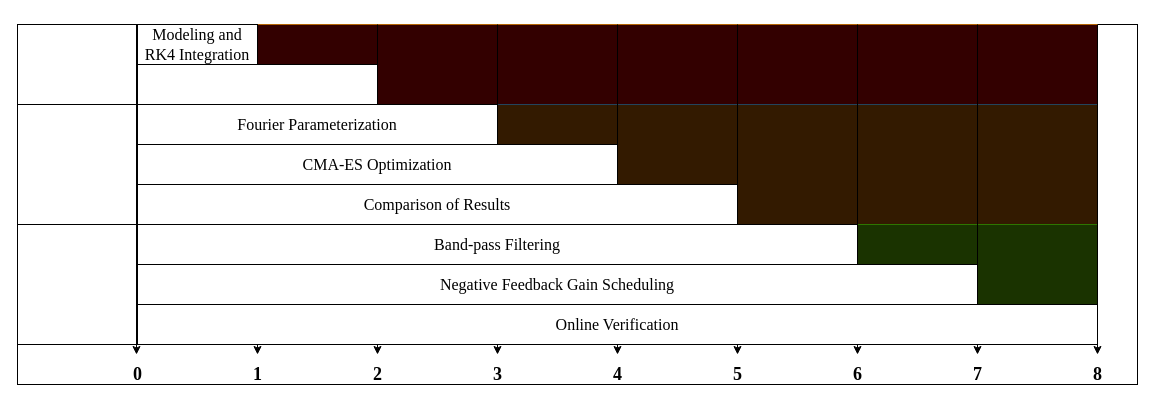
Image size: 1165x412. Some labels were removed from this diagram. Each missing label, with the box of its shape:
Comparison of Uncontrolled / Controlled Scenarios: (136, 64, 378, 104)
T1 Open-loop Verification: (16, 24, 138, 104)
T2 Full-State Optimization: (16, 104, 138, 224)
T3 Sensor Constraints: (16, 224, 138, 344)
